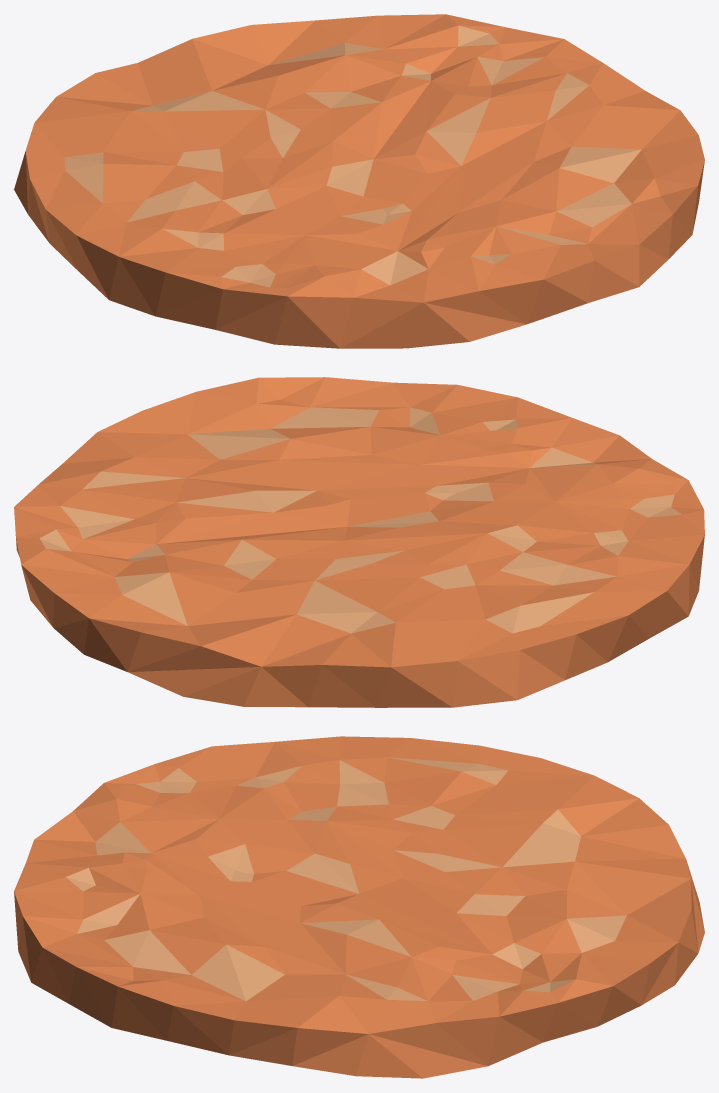
File: pepperoni.fbx
3 renders of one model, top to bottom at view 1: azimuth 30°, elevation 25°; view 2: azimuth 150°, elevation 25°; view 3: azimuth 270°, elevation 25°, orthographic. The views are drawn at different scales.
Visible parts, largest first — view 1: Pepperoni; view 2: Pepperoni; view 3: Pepperoni.
Part boxes in pixels (<box>): Pepperoni: <box>14,14,704,348</box>; Pepperoni: <box>14,377,704,707</box>; Pepperoni: <box>14,736,704,1078</box>.
Size of the model in its own units: 93.34 by 9.26 by 92.69.
